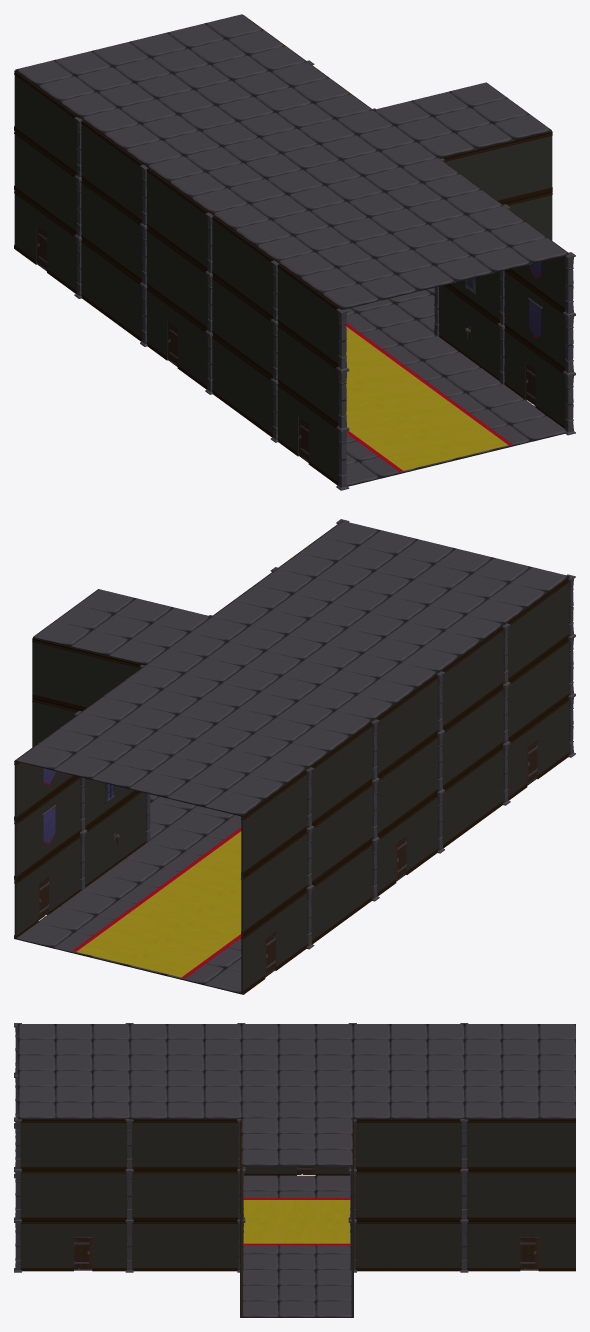
The model's file is CastleModule4 1.fbx.
3 views of the same model, one above another, from view 1: azimuth 30°, elevation 25°; view 2: azimuth 150°, elevation 25°; view 3: azimuth 270°, elevation 25° (orthographic). The views are drawn at different scales.
Parts seen in each view (by area): view 1: CarpetHall, CarpetHall.002, CarpetHall.005, CarpetHall.001, CarpetHall.003, CarpetHall.009, CarpetHall.007, HalfWallHall.715, HalfWallHall.714, HalfWallHall.713, CarpetHall.004, CarpetHall.011 (+192 smaller); view 2: CarpetHall.028, CarpetHall.020, CarpetHall.022, CarpetHall.025, CarpetHall.026, CarpetHall.024, CarpetHall.027, HalfWallHall.721, CarpetHall.023, HalfWallHall.720, HalfWallHall.719, CarpetHall.018 (+200 smaller); view 3: WallDoorHall.005, WallDoorHall.001, HalfWallHall.685, HalfWallHall.697, HalfWallHall.702, HalfWallHall.704, HalfWallHall.031, HalfWallHall.049, HalfWallHall.056, HalfWallHall.091, HalfWallHall.109, HalfWallHall.114 (+180 smaller).
Part boxes in pixels (x1=…): CarpetHall: x1=378, y1=442, x2=455, y2=471; CarpetHall.002: x1=356, y1=426, x2=433, y2=455; CarpetHall.005: x1=391, y1=396, x2=468, y2=425; CarpetHall.001: x1=434, y1=428, x2=512, y2=457; CarpetHall.003: x1=413, y1=412, x2=490, y2=441; CarpetHall.009: x1=347, y1=364, x2=425, y2=393; CarpetHall.007: x1=369, y1=380, x2=446, y2=409; HalfWallHall.715: x1=533, y1=131, x2=552, y2=195; HalfWallHall.714: x1=514, y1=136, x2=533, y2=200; HalfWallHall.713: x1=495, y1=140, x2=514, y2=203; CarpetHall.004: x1=346, y1=410, x2=411, y2=439; CarpetHall.011: x1=346, y1=348, x2=403, y2=377; CarpetHall.028: x1=72, y1=935, x2=150, y2=964; CarpetHall.020: x1=160, y1=871, x2=237, y2=900; CarpetHall.022: x1=138, y1=887, x2=215, y2=916; CarpetHall.025: x1=151, y1=933, x2=228, y2=962; CarpetHall.026: x1=94, y1=919, x2=171, y2=948; CarpetHall.024: x1=116, y1=903, x2=193, y2=932; CarpetHall.027: x1=129, y1=949, x2=206, y2=978; HalfWallHall.721: x1=32, y1=638, x2=51, y2=702; CarpetHall.023: x1=173, y1=917, x2=241, y2=946; HalfWallHall.720: x1=51, y1=642, x2=70, y2=706; HalfWallHall.719: x1=70, y1=647, x2=88, y2=710; CarpetHall.018: x1=182, y1=855, x2=241, y2=884; WallDoorHall.005: x1=501, y1=1220, x2=538, y2=1271; WallDoorHall.001: x1=55, y1=1220, x2=92, y2=1271; HalfWallHall.685: x1=36, y1=1119, x2=55, y2=1170; HalfWallHall.697: x1=408, y1=1119, x2=427, y2=1170; HalfWallHall.702: x1=501, y1=1119, x2=520, y2=1170; HalfWallHall.704: x1=538, y1=1119, x2=557, y2=1170; HalfWallHall.031: x1=36, y1=1220, x2=55, y2=1271; HalfWallHall.049: x1=408, y1=1220, x2=427, y2=1271; HalfWallHall.056: x1=538, y1=1220, x2=557, y2=1271; HalfWallHall.091: x1=36, y1=1170, x2=55, y2=1220; HalfWallHall.109: x1=408, y1=1170, x2=427, y2=1220; HalfWallHall.114: x1=501, y1=1170, x2=520, y2=1220.
Size of the model in its own units: 1822 by 910 by 3022.
